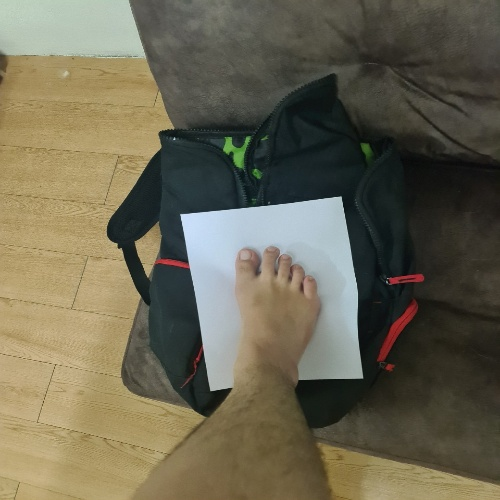Top_Foot: (163, 192, 386, 409)
